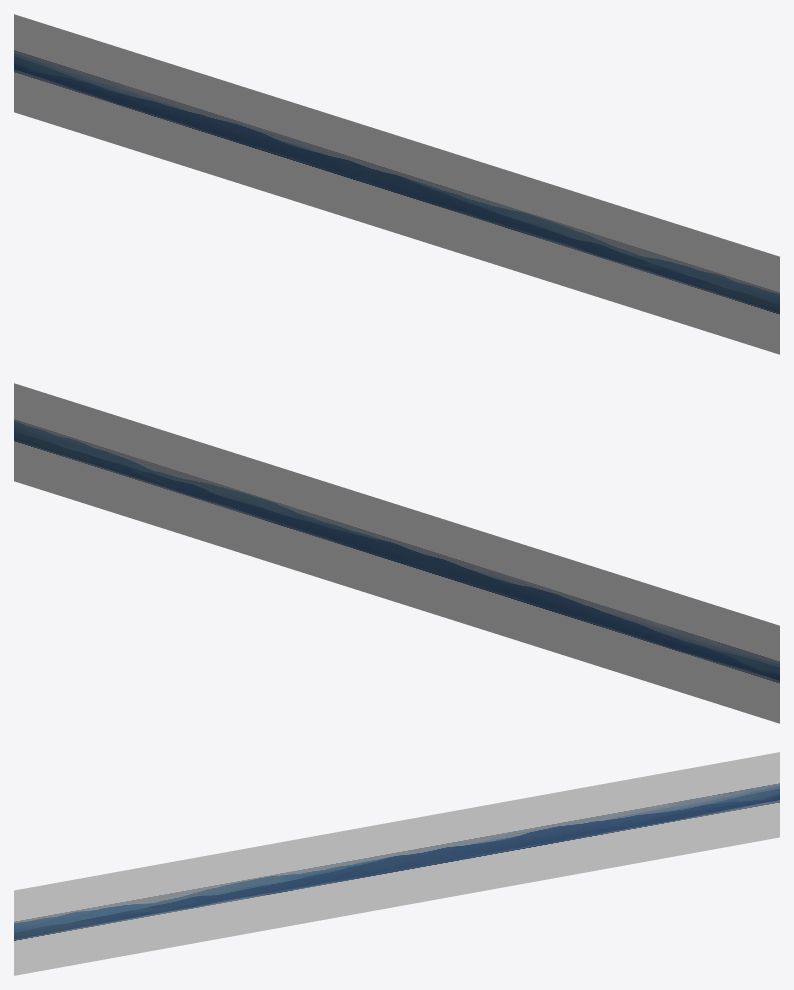
3 views of the same model, one above another, from view 1: azimuth 30°, elevation 25°; view 2: azimuth 210°, elevation 25°; view 3: azimuth 270°, elevation 25° (orthographic). The views are drawn at different scales.
Visible parts, largest first — view 1: Line003; view 2: Line003; view 3: Line003.
Boxes of the visible parts, <box> form: Line003: <box>14,14,779,354</box>; Line003: <box>14,383,779,723</box>; Line003: <box>14,752,779,975</box>.
Size of the model in its own units: 38268 by 89470 by 11005.
1 material, 1 textured.
